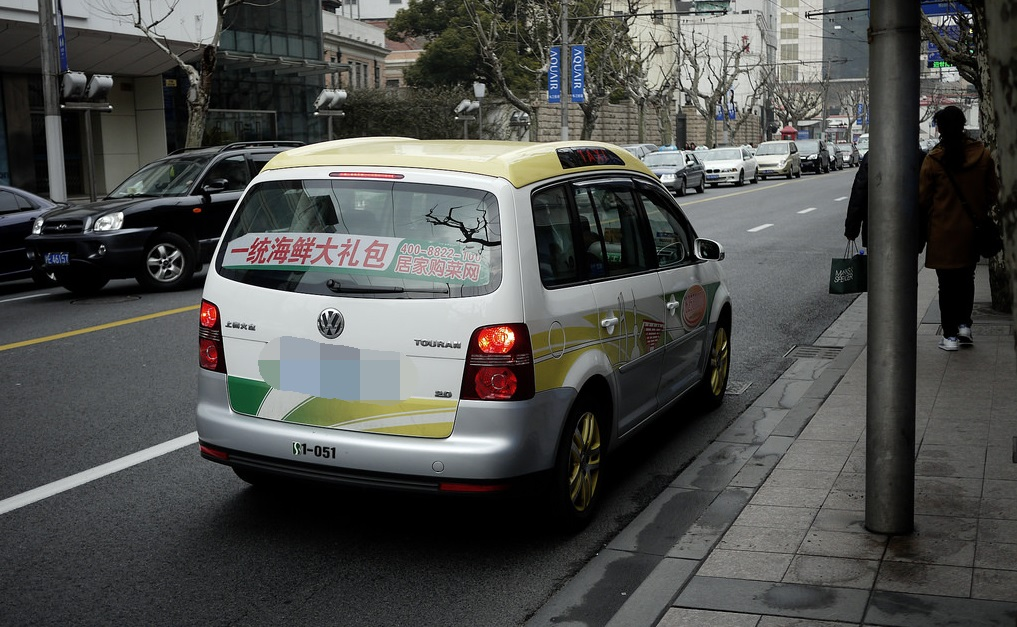taxi: (196, 130, 738, 525)
